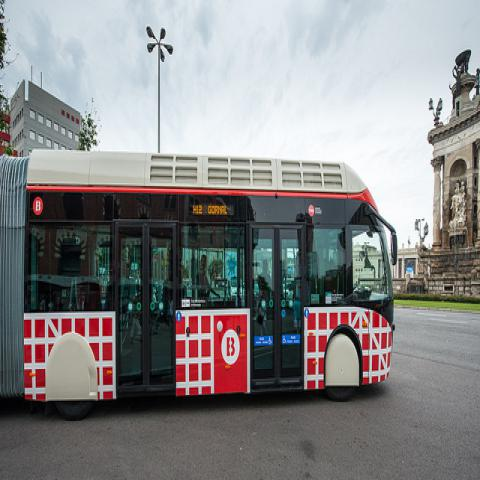bus: (1, 147, 398, 402)
